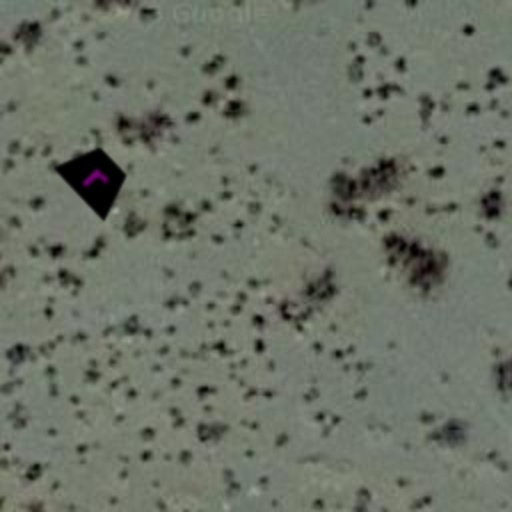trapezoid: (42, 124, 150, 232)
